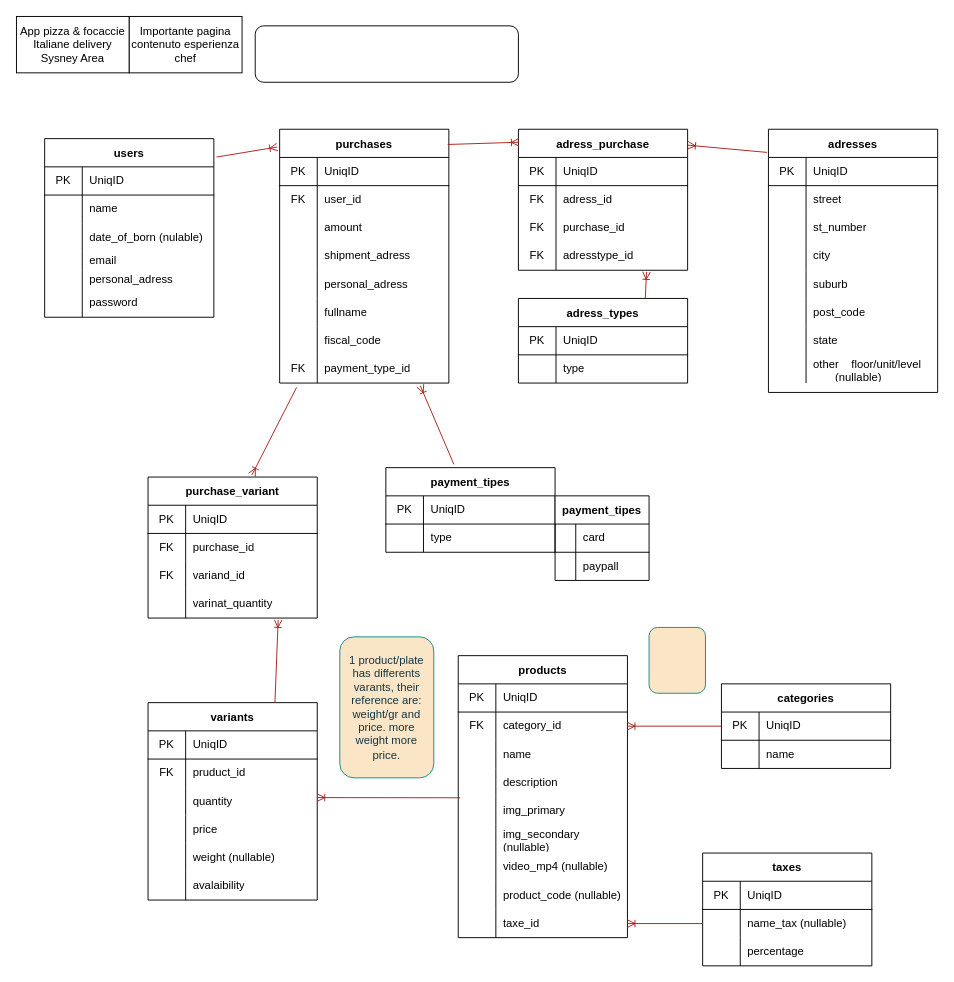
Image size: 954x982. Some labels were removed from this diagram. The centre of each missing label's shape, as x and y in pixels:
"1 category could has 1 or more products" goes at point (676, 660).
"NO HAWAIIAN PIZZA" goes at point (386, 53).
